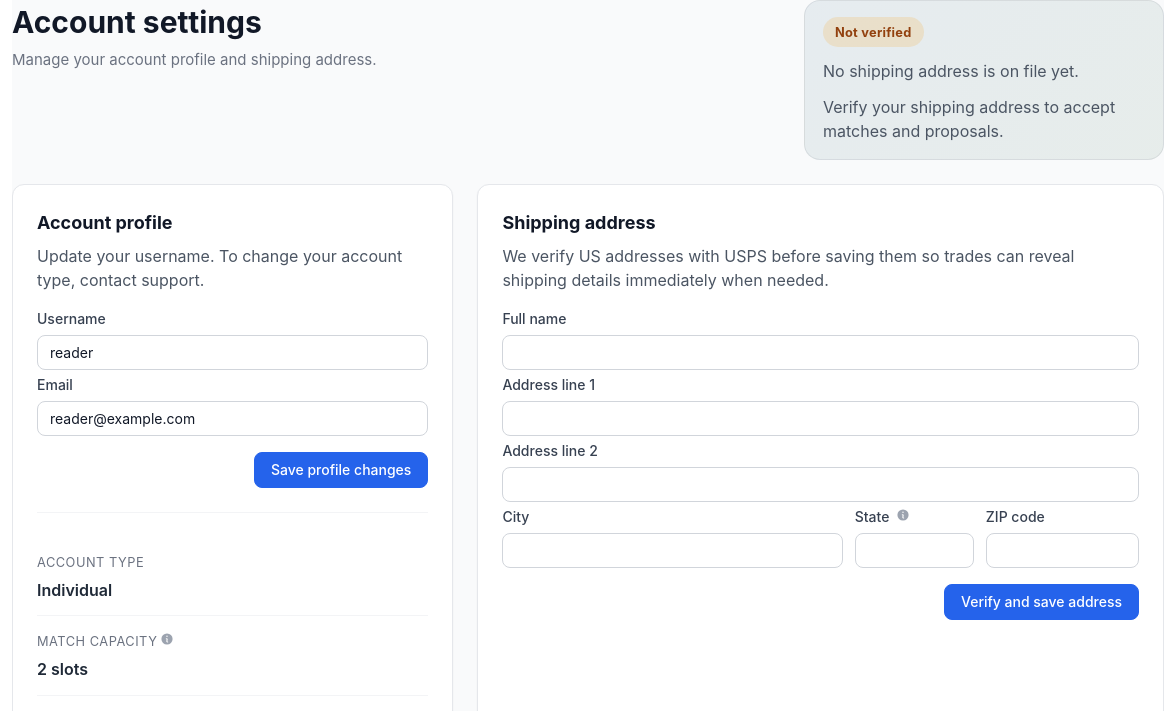
Test: AccountSettings page › shows error when profile update fails
Replace the text in the field labelled "Username" with "takenname": (233, 353) [37, 335, 428, 370]
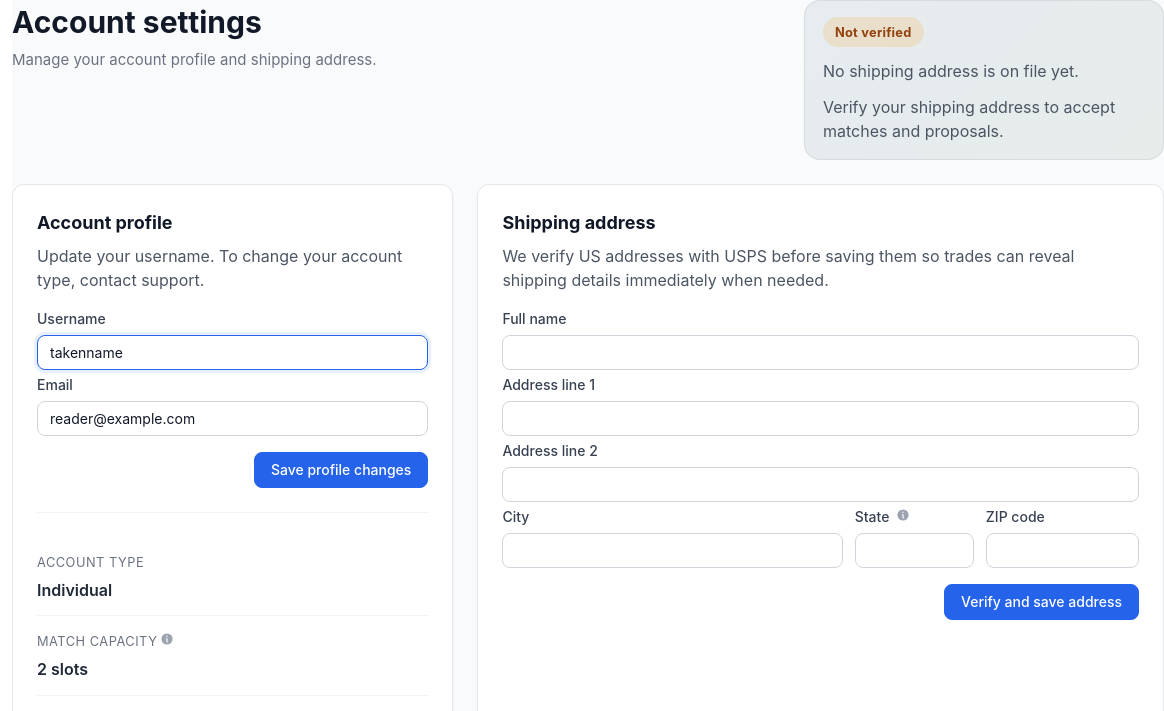
Click the button "Save profile changes": (341, 470) [254, 452, 428, 488]
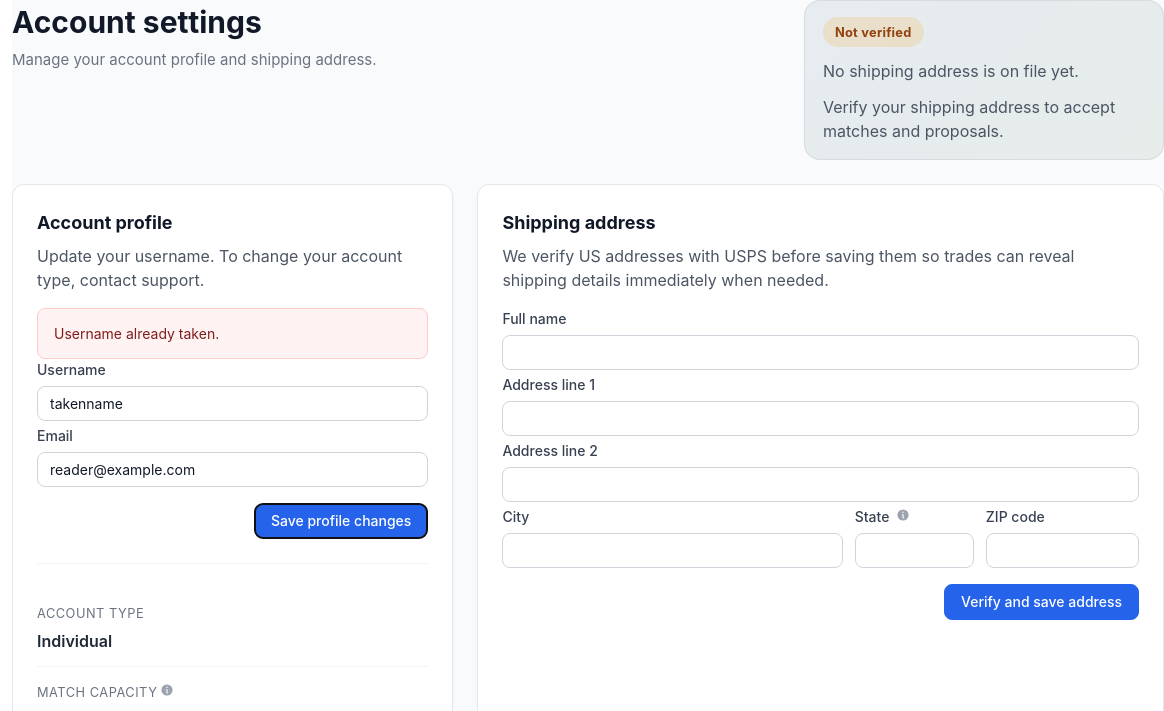
Check: the text "Username already taken." is shown, box [37, 308, 428, 359]
